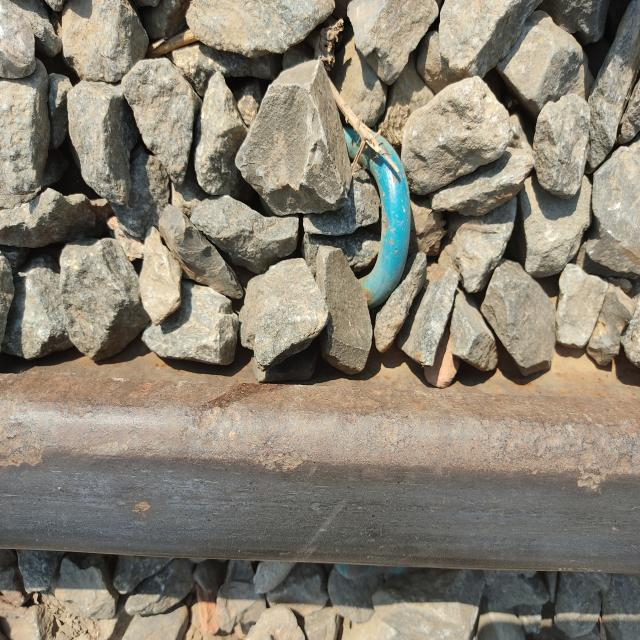non-defective: (236, 73, 431, 394)
